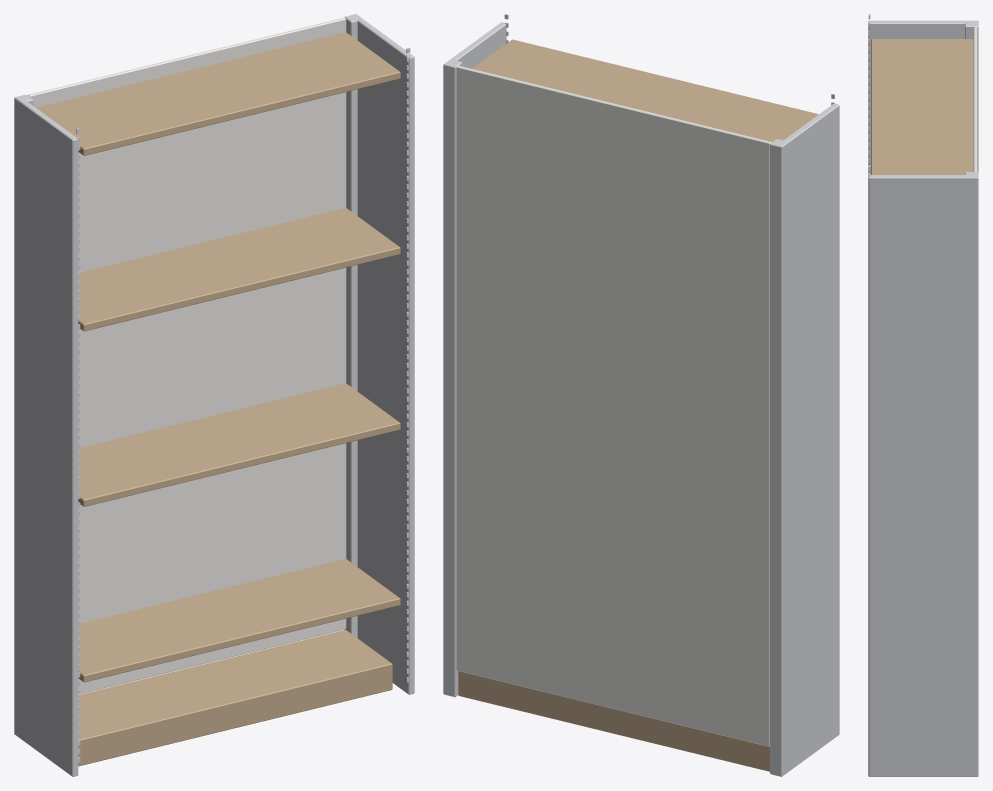
The picture shows the model from 3 angles, left to right: view 1: azimuth 30°, elevation 25°; view 2: azimuth 150°, elevation 25°; view 3: azimuth 270°, elevation 25°; orthographic projection. The views are drawn at different scales.
Parts seen in each view (by area): view 1: wall-bay-2400; view 2: wall-bay-2400; view 3: wall-bay-2400.
Boxes of the visible parts, x1,y1,x2,y2 form: wall-bay-2400: (14, 14, 414, 776); wall-bay-2400: (443, 14, 839, 776); wall-bay-2400: (868, 14, 978, 776).
Bounding box in the file's own units: 1.35 × 2.43 × 0.3999.
